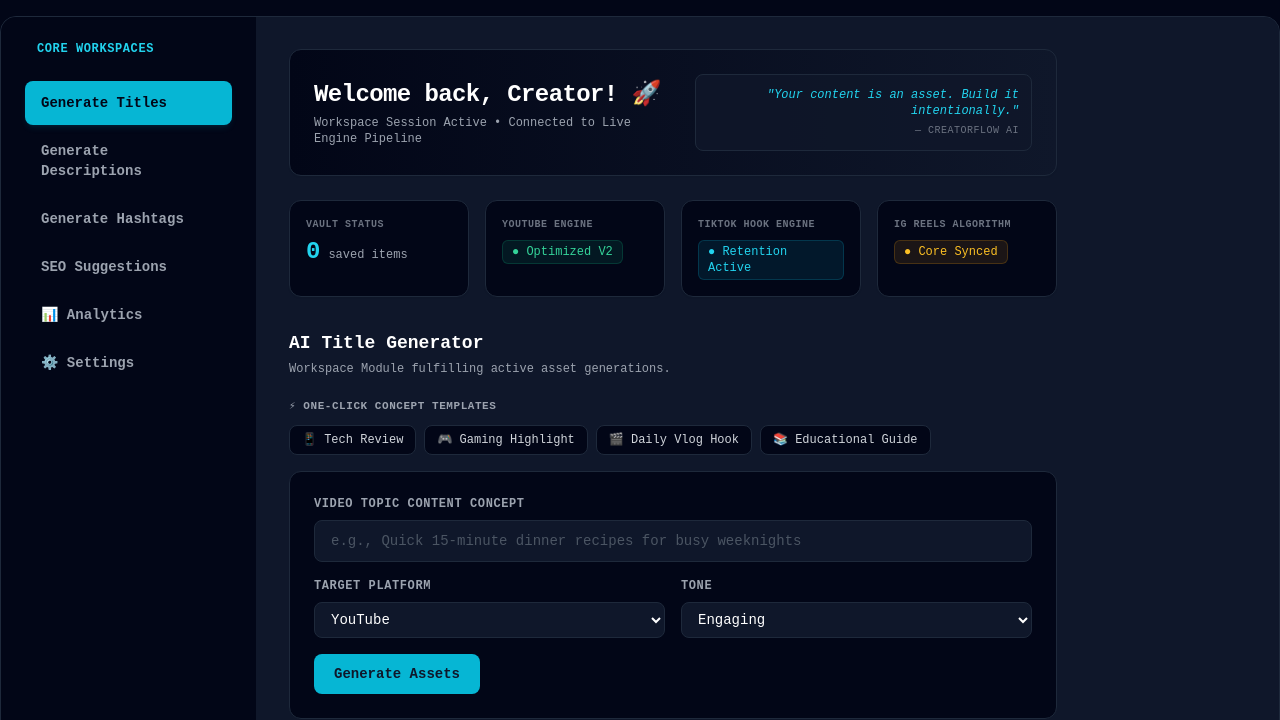
Scenario: AIToolStudio — layout and inputs › shows the Tone selector only on the Title tab and hides Platform on the SEO tab
The width and height of the screenshot is (1280, 720).
expect the text "Tone" is shown: met, box top-left (681, 579), bottom-right (712, 593)
Click the button "Generate Descriptions".
click(128, 161)  # box top-left (25, 129), bottom-right (232, 193)
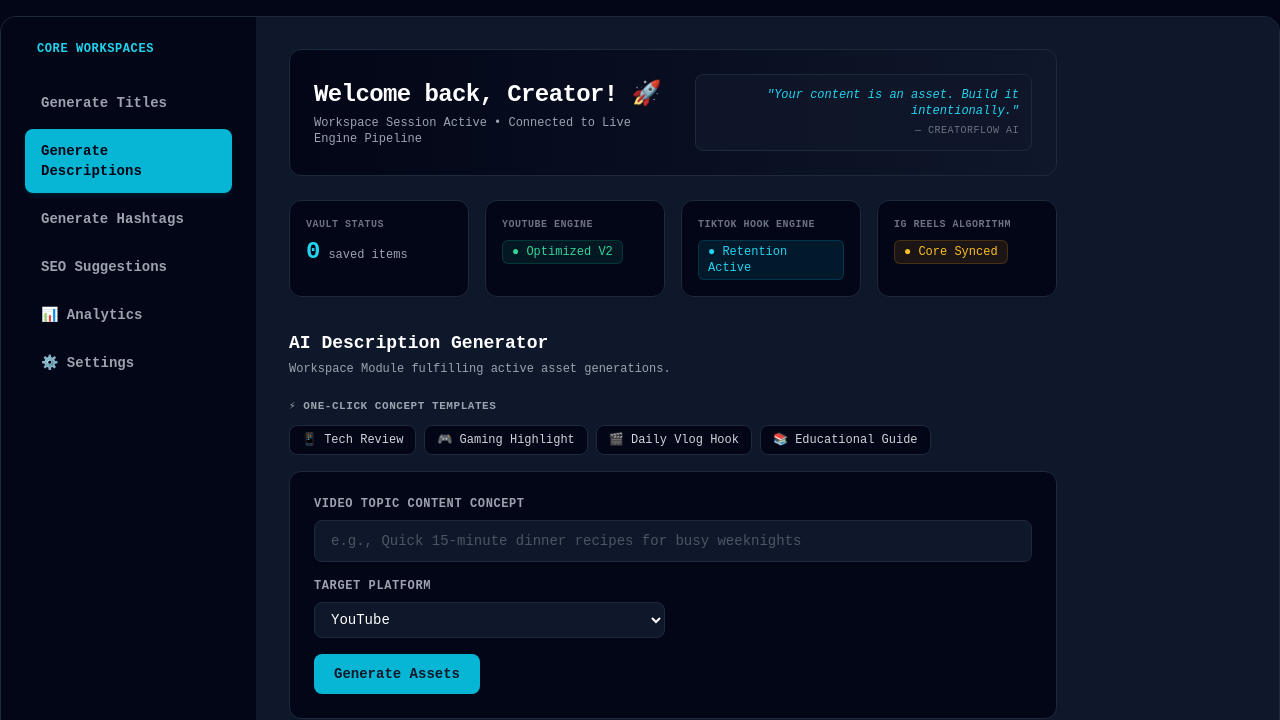
expect the text "Target Platform" is shown: met, box top-left (314, 579), bottom-right (431, 593)
expect the text "Tone" is gone: met
Click the button "SEO Suggestions".
click(128, 267)  # box top-left (25, 245), bottom-right (232, 289)
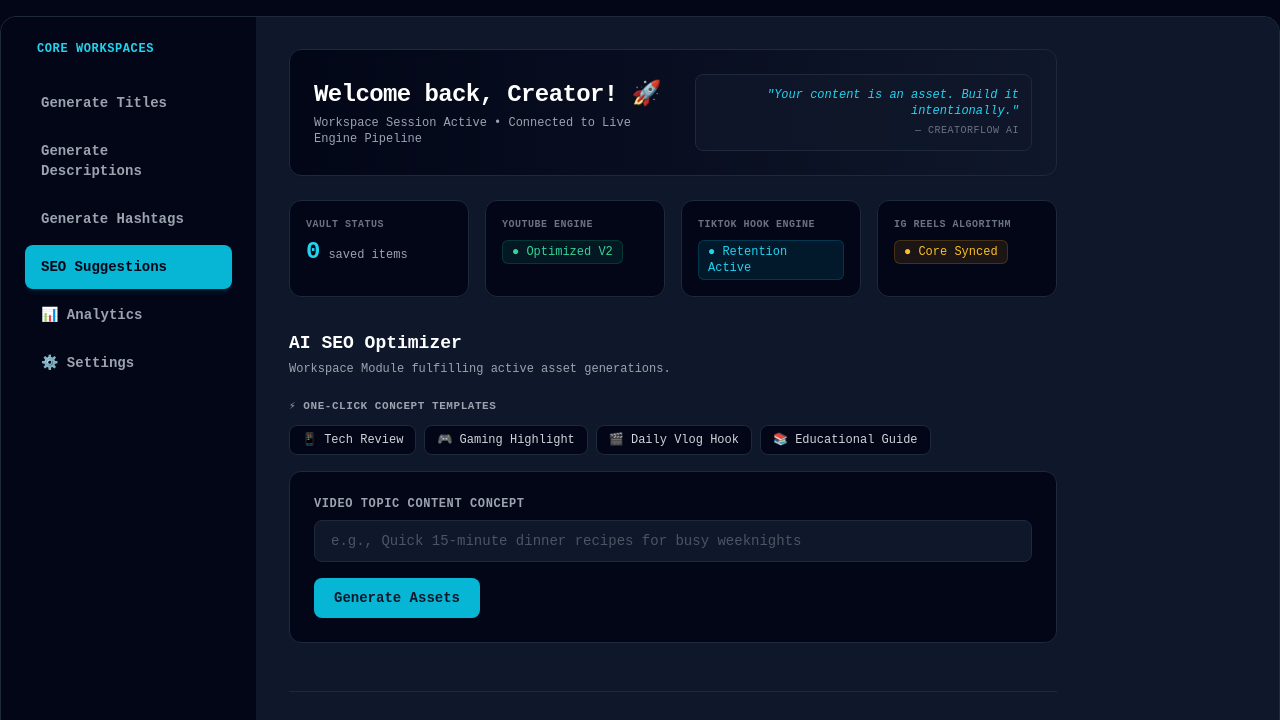
expect the text "Target Platform" is gone: met
